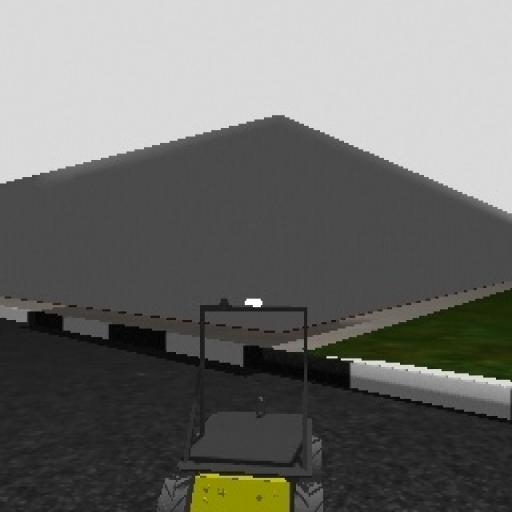huskya200: (145, 283, 326, 512)
